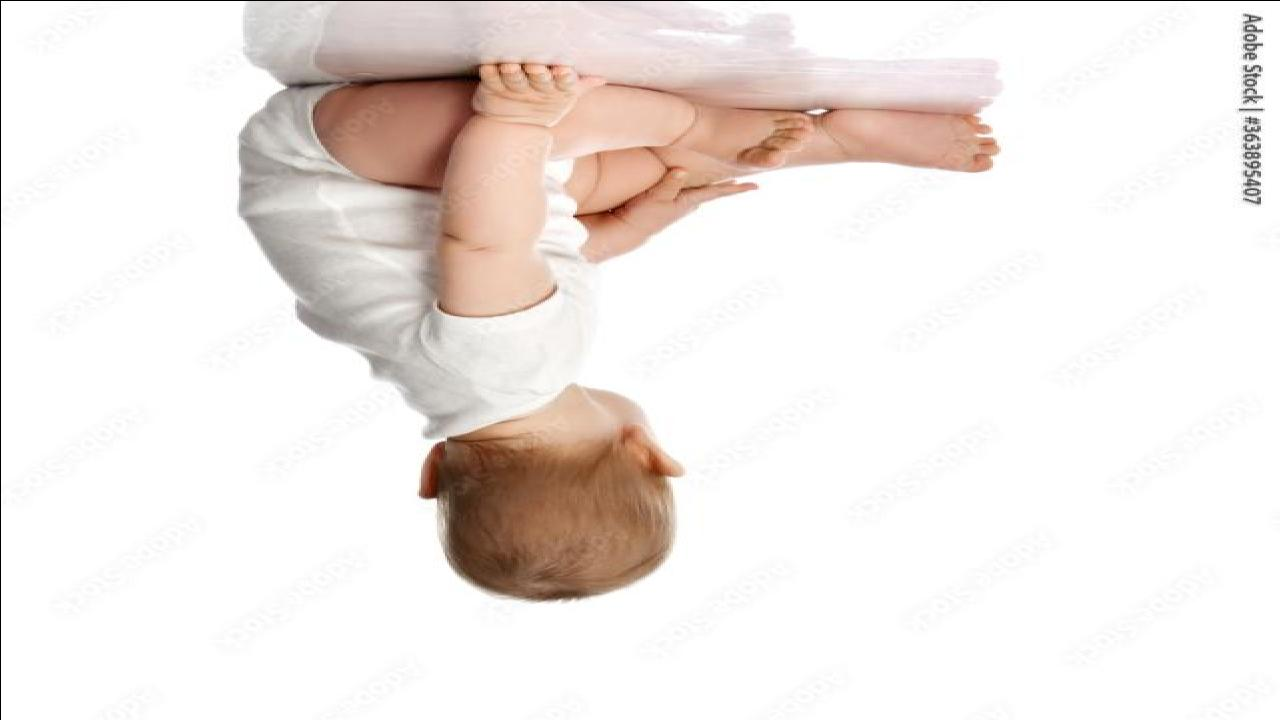hand: (459, 50, 618, 128), (620, 162, 756, 237)
